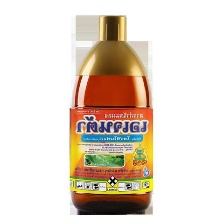insecticide: (66, 10, 158, 216)
